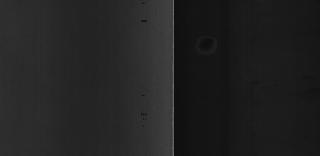oil spot: (138, 112, 152, 128), (140, 18, 152, 28)
